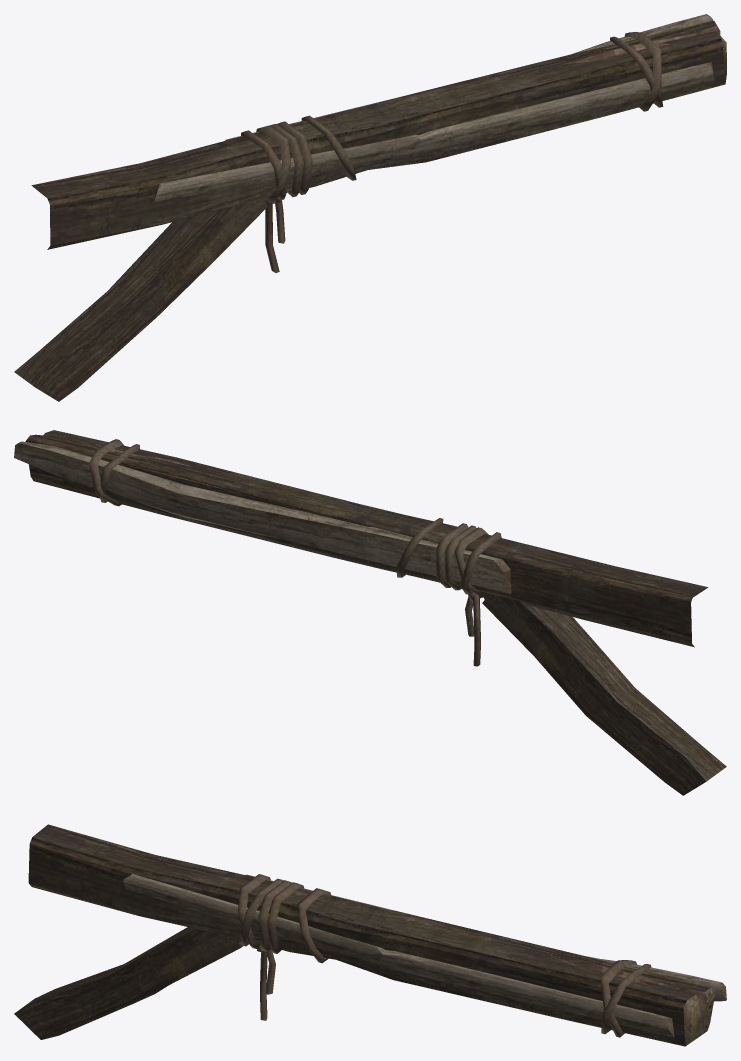
File: ING_NAV_Beam_3m_01_LOD0-transformed.glb
The picture shows the model from 3 angles, top to bottom: view 1: azimuth 30°, elevation 25°; view 2: azimuth 150°, elevation 25°; view 3: azimuth 330°, elevation 25°; orthographic projection. The views are drawn at different scales.
Visible parts, largest first — view 1: default; view 2: default; view 3: default.
Part boxes in pixels (x1,y1,x2,y2): default: (14, 14, 726, 401); default: (14, 430, 726, 795); default: (14, 824, 726, 1046).
Size of the model in its own units: 2.98 by 0.8433 by 0.2922.
Materials: 3 (3 with a texture image).
